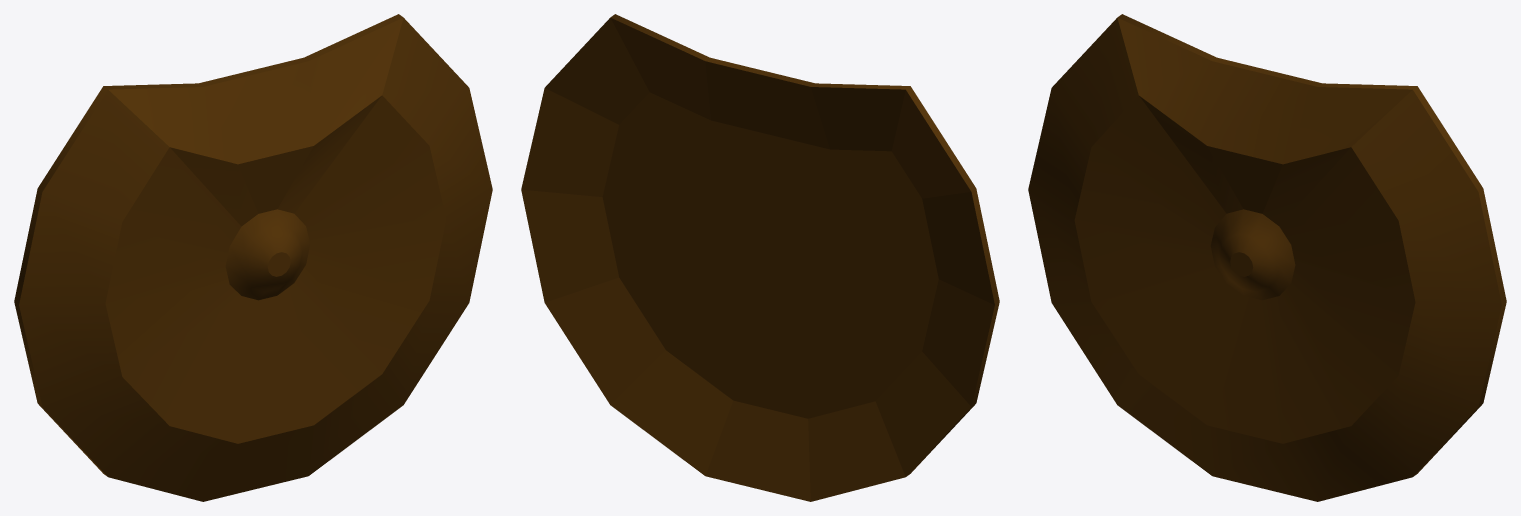
File: Copper Round Shield.FBX
The picture shows the model from 3 angles, left to right: view 1: azimuth 30°, elevation 25°; view 2: azimuth 150°, elevation 25°; view 3: azimuth 330°, elevation 25°; orthographic projection.
Parts seen in each view (by area): view 1: Copper Round Shield; view 2: Copper Round Shield; view 3: Copper Round Shield.
Part boxes in pixels (x1,y1,x2,y2): Copper Round Shield: (14, 14, 492, 501); Copper Round Shield: (521, 14, 999, 501); Copper Round Shield: (1028, 14, 1506, 501).
Bounding box in the file's own units: 40.31 × 35.41 × 4.16.
